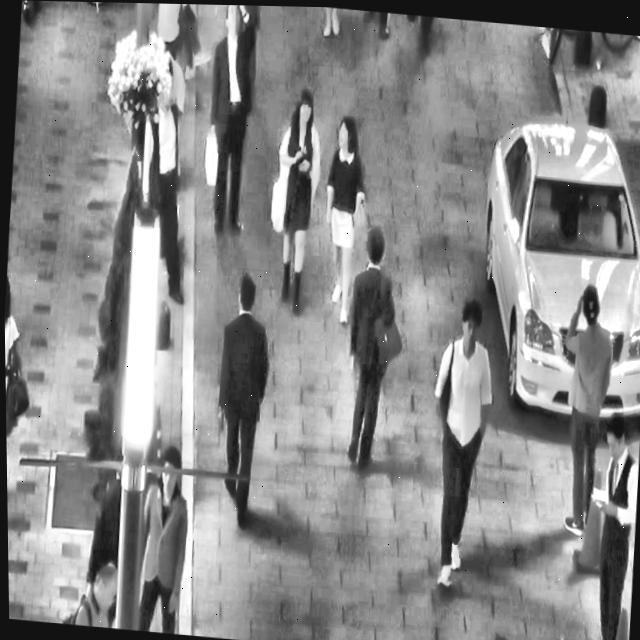light_vehicle: (463, 92, 640, 430)
